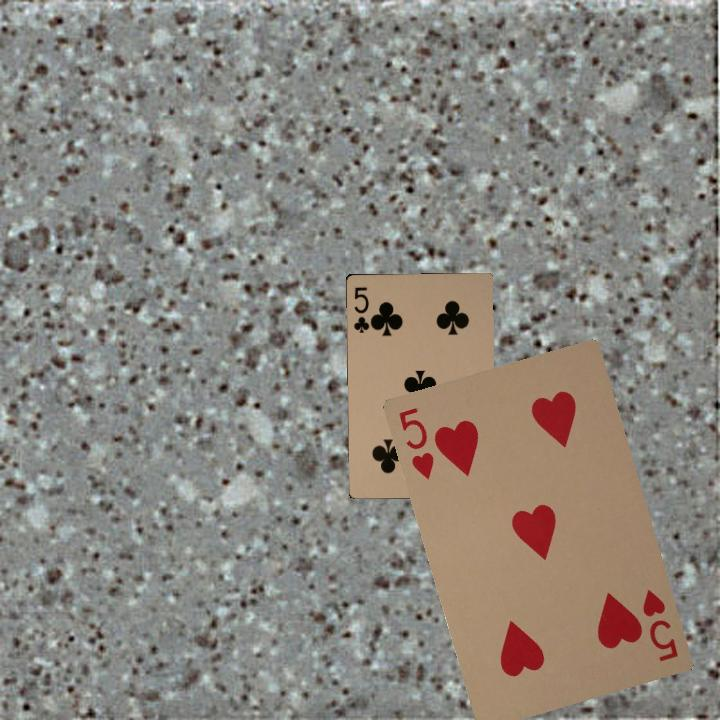5c: (350, 283, 375, 335)
5h: (394, 403, 437, 483), (638, 585, 681, 664)
